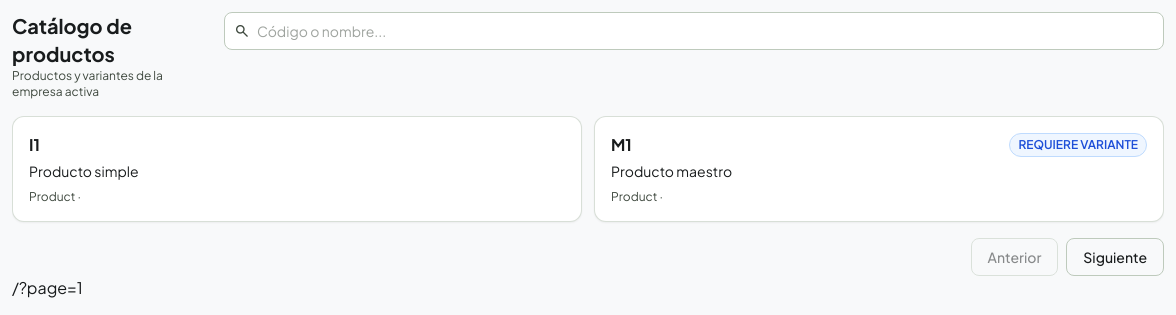
Test case: ProductsPage functional coverage › debounces search, resets the page and removes an empty search from the URL
The width and height of the screenshot is (1176, 315).
Type "semilla" into the field with placeholder "Código o nombre..." at (694, 31), box [224,12,1164,50]
Wait 1000 ms
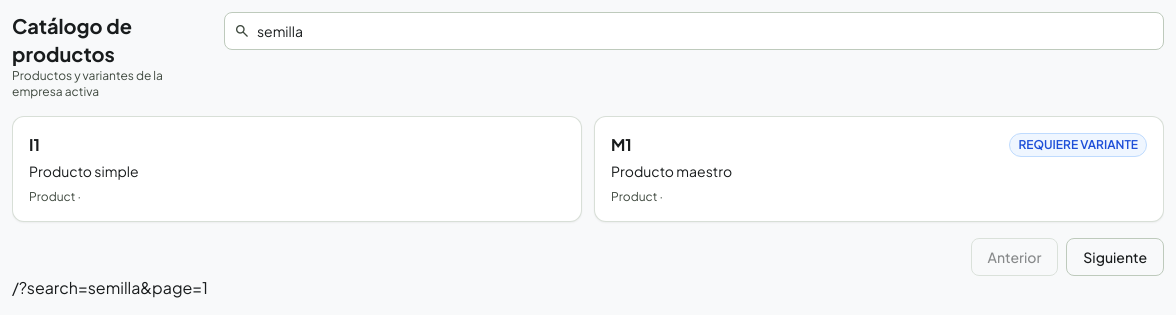
Result: the text with test id "location" shows "search=semilla" at [19,277,208,298]
Clear the field with placeholder "Código o nombre..." at (694, 31), box [224,12,1164,50]
Wait 1000 ms
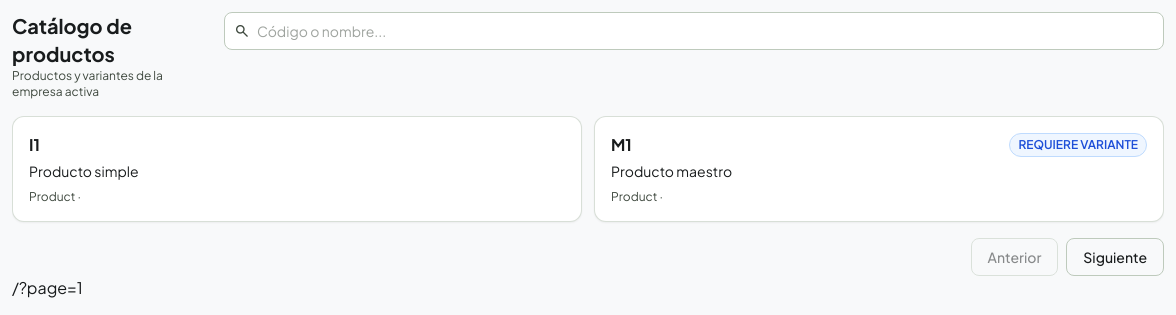
Result: the text with test id "location" no longer shows "search=" at [12,277,83,298]
